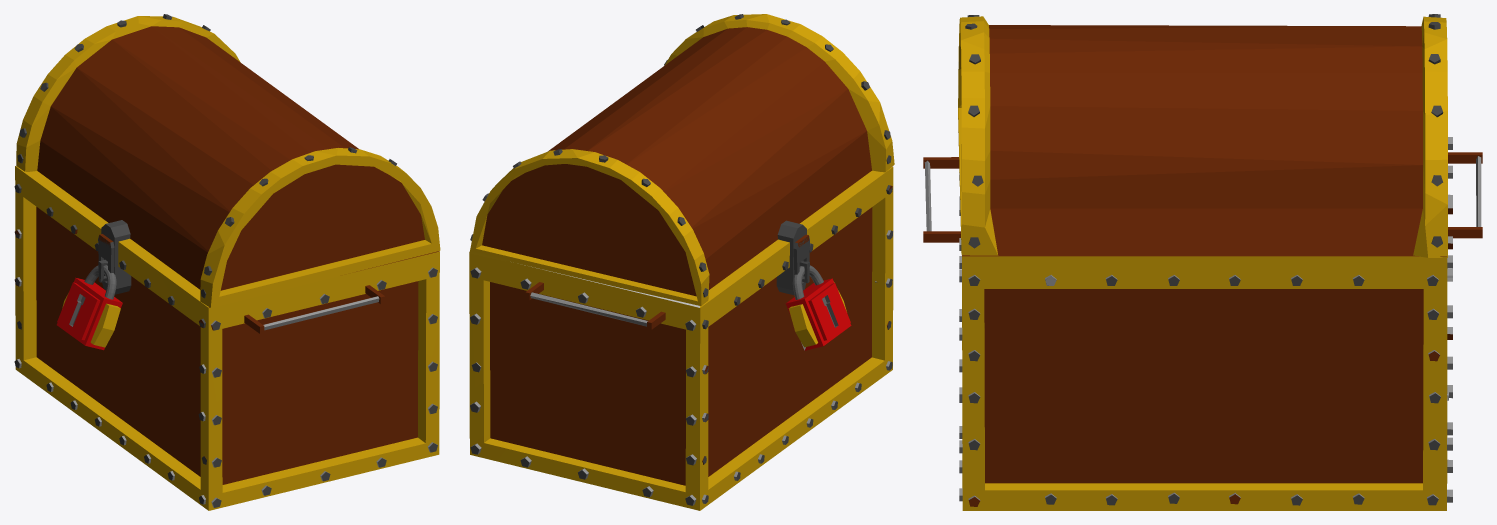
File: RedChestAndLock.fbx
3 views of the same model, side by side, from view 1: azimuth 30°, elevation 25°; view 2: azimuth 150°, elevation 25°; view 3: azimuth 270°, elevation 25° (orthographic). The views are drawn at different scales.
Parts seen in each view (by area): view 1: Cube.001, Cube; view 2: Cube.001, Cube; view 3: Cube.001.
Boxes of the visible parts, box(x1,y1,x2,y2) form: Cube.001: box(14, 14, 440, 510); Cube: box(56, 265, 122, 350); Cube.001: box(469, 14, 894, 510); Cube: box(785, 265, 851, 350); Cube.001: box(923, 14, 1482, 510).
Bounding box in the file's own units: 239 × 270 × 334.
